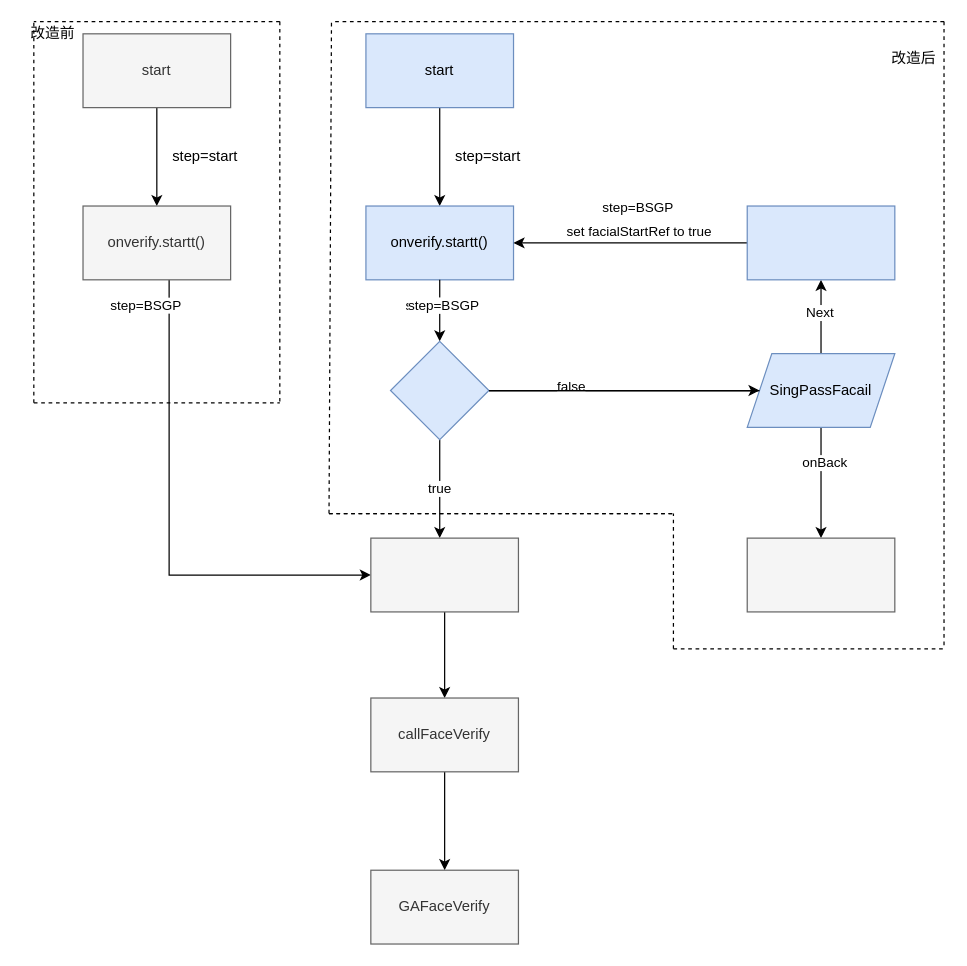
Some shapes in this 967 by 966 pixel diagram are drawn without their labels. The box of each missing label's shape, as (x1, y1, x2, y2) in pixels:
facialStartRef: (389, 340, 489, 440)
InputFinish: (746, 205, 895, 280)
interruptVerify: (746, 537, 895, 612)
startFaceVerify: (370, 537, 518, 612)
